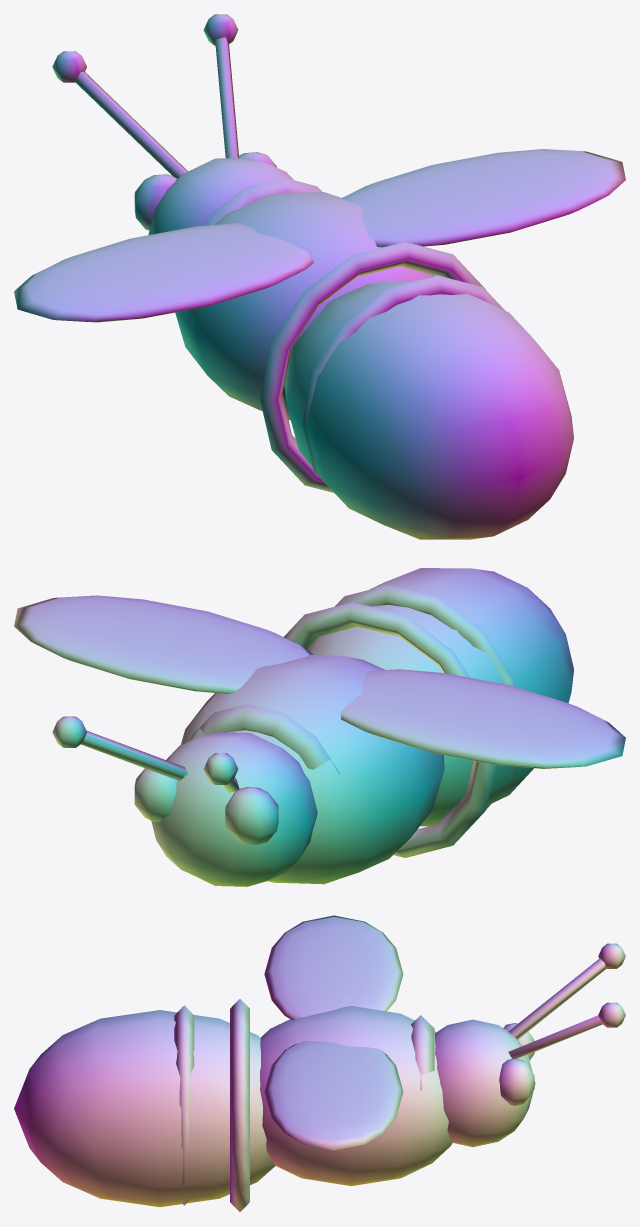
File: pet_firefly.glb
3 views of the same model, one above another, from view 1: azimuth 30°, elevation 25°; view 2: azimuth 150°, elevation 25°; view 3: azimuth 270°, elevation 25° (orthographic). The views are drawn at different scales.
Visible parts, largest first — view 1: body, wings; view 2: body, wings; view 3: body, wings.
Boxes of the visible parts, bbox=[...] form: body: bbox=[52, 14, 573, 539]; wings: bbox=[14, 149, 625, 322]; body: bbox=[52, 568, 573, 886]; wings: bbox=[14, 595, 625, 768]; body: bbox=[14, 943, 625, 1211]; wings: bbox=[264, 915, 403, 1150].
Bounding box in the file's own units: 0.16 × 0.0727 × 0.176.
